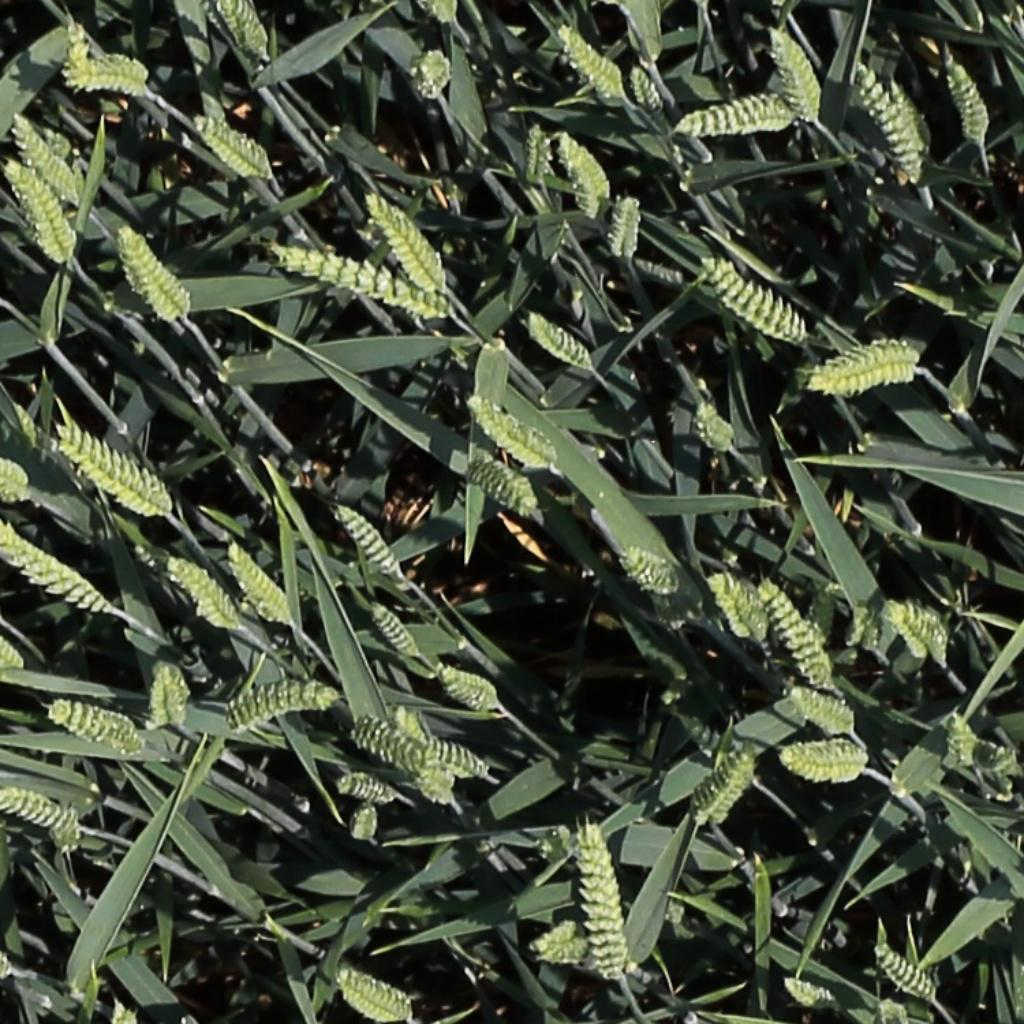0-0: (268, 243, 450, 315), (0, 518, 110, 614), (58, 425, 171, 516), (853, 60, 931, 184), (704, 253, 808, 345), (757, 576, 839, 692), (363, 184, 447, 292), (792, 339, 929, 404), (385, 698, 465, 809), (349, 717, 498, 775), (2, 154, 76, 264), (116, 223, 193, 323), (582, 821, 629, 978), (6, 106, 81, 200), (223, 537, 297, 628), (673, 86, 789, 142), (468, 395, 557, 466), (555, 20, 630, 102), (228, 676, 341, 729), (165, 557, 243, 632), (768, 20, 824, 124), (333, 501, 405, 581), (468, 460, 549, 530), (697, 749, 760, 832), (193, 110, 271, 176), (557, 136, 617, 218), (783, 734, 865, 793), (709, 569, 771, 647), (67, 50, 158, 102), (47, 703, 140, 752), (527, 309, 596, 371), (875, 940, 942, 1003), (365, 598, 427, 664), (946, 55, 989, 150), (887, 75, 936, 155), (337, 969, 412, 1019), (526, 916, 594, 968), (145, 656, 188, 737), (0, 793, 80, 835), (887, 603, 947, 659), (223, 0, 274, 64), (791, 686, 858, 733), (626, 55, 671, 122), (980, 732, 1013, 819), (439, 666, 501, 711), (694, 397, 740, 456), (622, 550, 682, 595), (415, 43, 463, 99), (605, 191, 635, 268), (62, 9, 91, 88), (943, 704, 973, 770), (783, 977, 842, 1010), (845, 599, 877, 656), (527, 113, 550, 191), (0, 613, 24, 674), (352, 798, 380, 850), (335, 779, 398, 802), (0, 454, 27, 502), (876, 993, 912, 1024), (432, 0, 462, 32)
